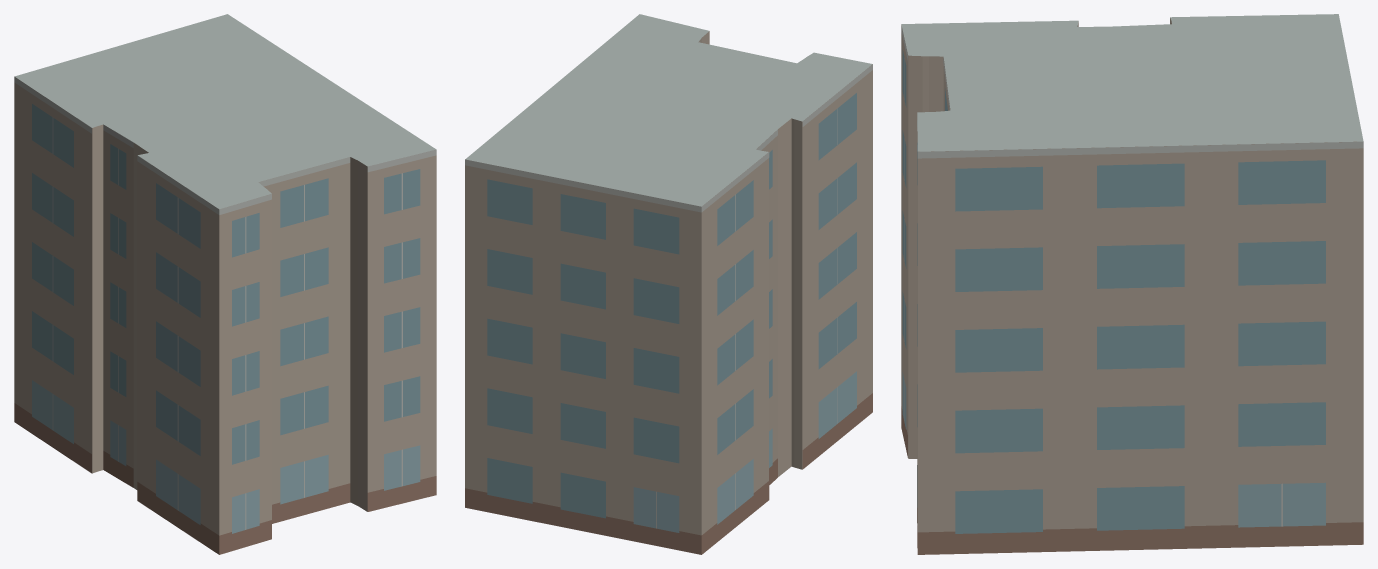
The model's file is survey-upis-32885769.glb.
3 views of the same model, side by side, from view 1: azimuth 30°, elevation 25°; view 2: azimuth 150°, elevation 25°; view 3: azimuth 270°, elevation 25° (orthographic). The views are drawn at different scales.
Parts seen in each view (by area): view 1: survey-upis-32885769.tmp; view 2: survey-upis-32885769.tmp; view 3: survey-upis-32885769.tmp.
Boxes of the visible parts, x1,y1,x2,y2 form: survey-upis-32885769.tmp: [14, 14, 436, 554]; survey-upis-32885769.tmp: [465, 14, 872, 554]; survey-upis-32885769.tmp: [901, 14, 1363, 554].
Bounding box in the file's own units: 10.56 × 14.4 × 14.98.
